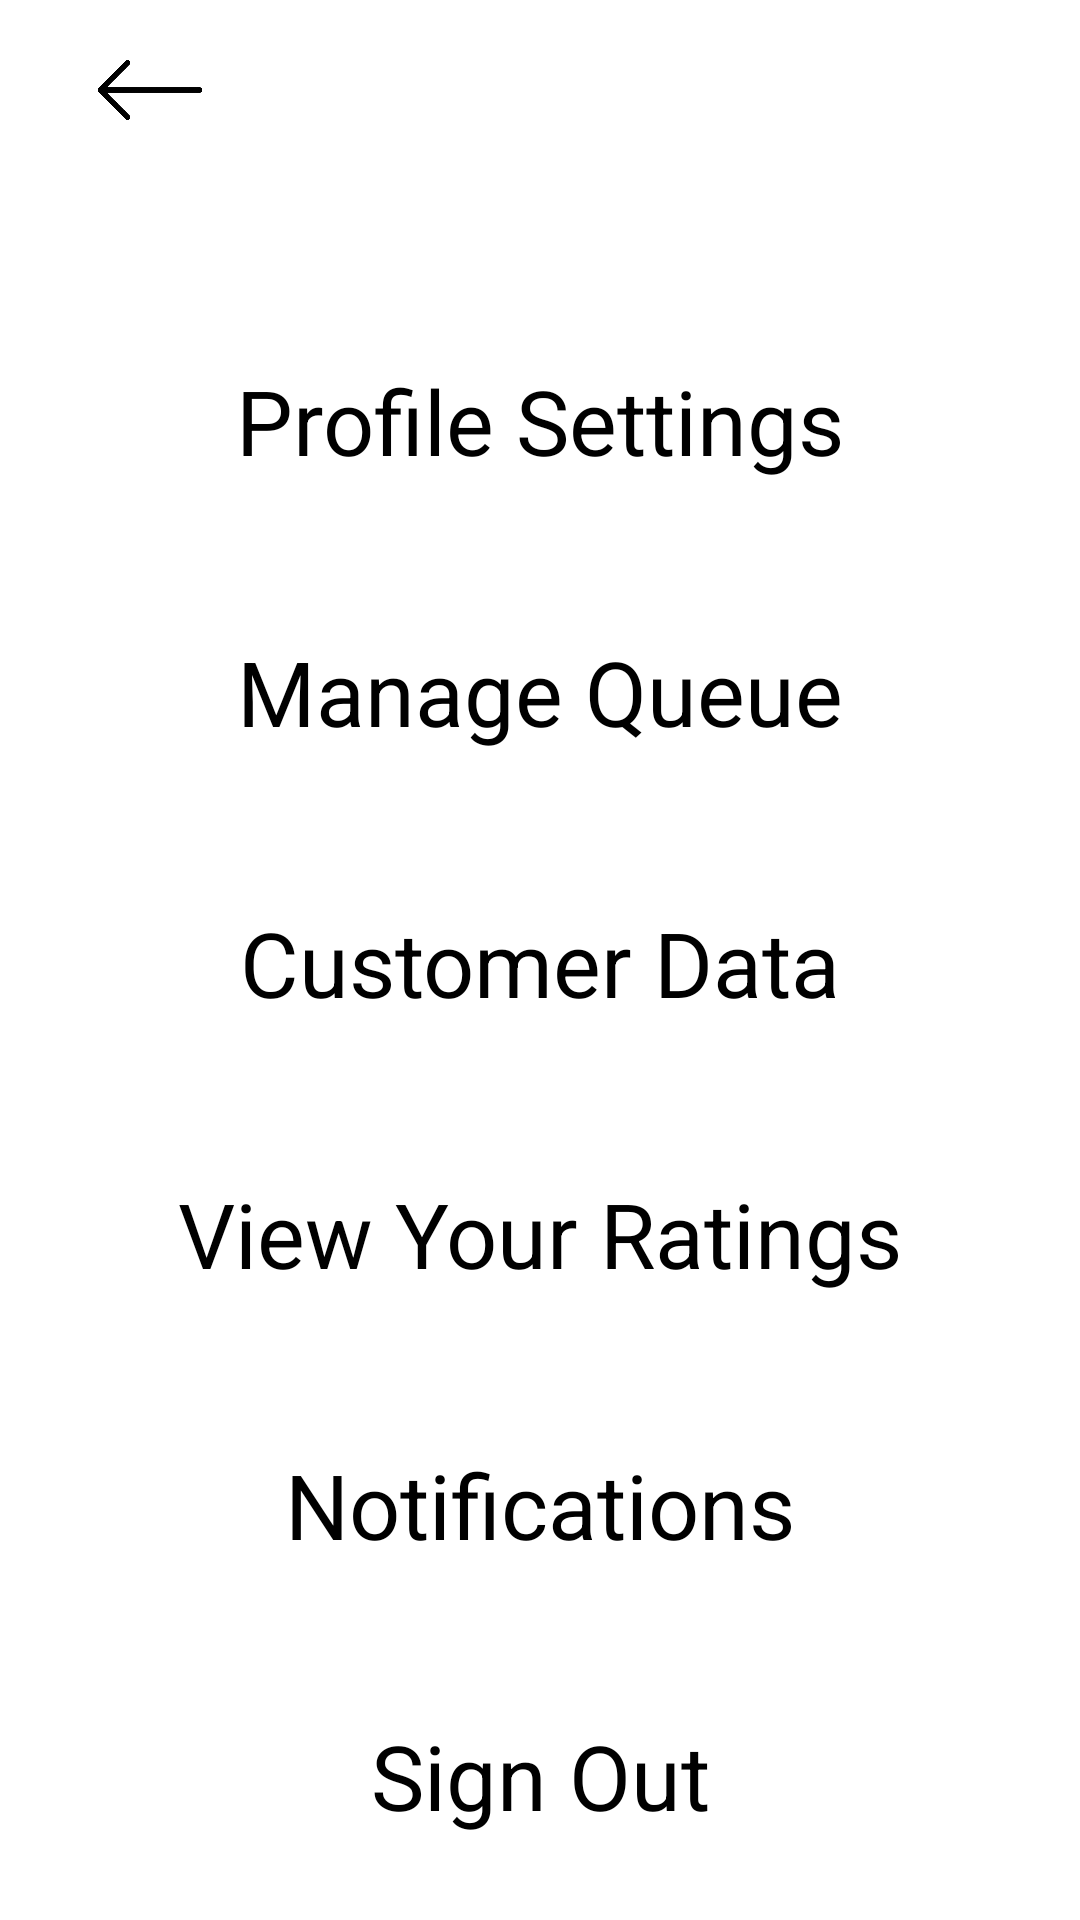

Icons on this 1080px x 1920px Android screen, each with its box as (x1, y1, x2, y2):
leftarrow: (98, 60, 202, 120)
